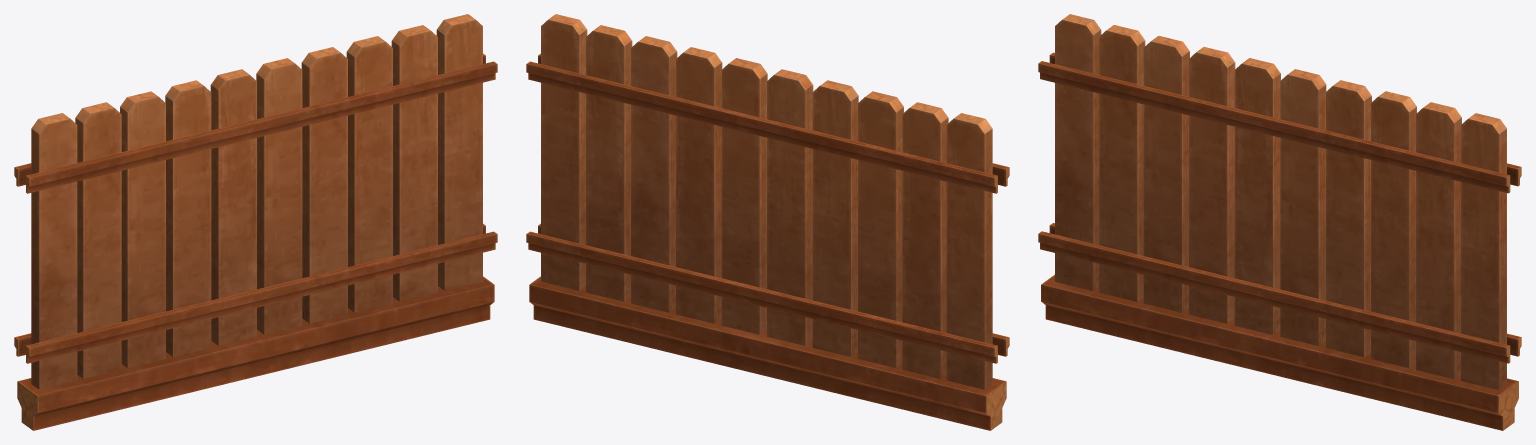
File: fence_panel.glb
The picture shows the model from 3 angles, left to right: view 1: azimuth 30°, elevation 25°; view 2: azimuth 150°, elevation 25°; view 3: azimuth 330°, elevation 25°; orthographic projection.
Parts seen in each view (by area): view 1: Fence1_Large_Left_Planks_MAT_0.001, Fence1_Large_Left_Frames_MAT_0.001; view 2: Fence1_Large_Left_Planks_MAT_0.001, Fence1_Large_Left_Frames_MAT_0.001; view 3: Fence1_Large_Left_Planks_MAT_0.001, Fence1_Large_Left_Frames_MAT_0.001.
Boxes of the visible parts, x1=… form: Fence1_Large_Left_Planks_MAT_0.001: x1=31, y1=14, x2=482, y2=389; Fence1_Large_Left_Frames_MAT_0.001: x1=14, y1=53, x2=497, y2=430; Fence1_Large_Left_Planks_MAT_0.001: x1=541, y1=14, x2=992, y2=389; Fence1_Large_Left_Frames_MAT_0.001: x1=526, y1=53, x2=1009, y2=430; Fence1_Large_Left_Planks_MAT_0.001: x1=1055, y1=14, x2=1506, y2=389; Fence1_Large_Left_Frames_MAT_0.001: x1=1038, y1=52, x2=1521, y2=430.
Bounding box in the file's own units: 1.82 × 1.12 × 0.1372.
Materials: 2 (2 with a texture image).
